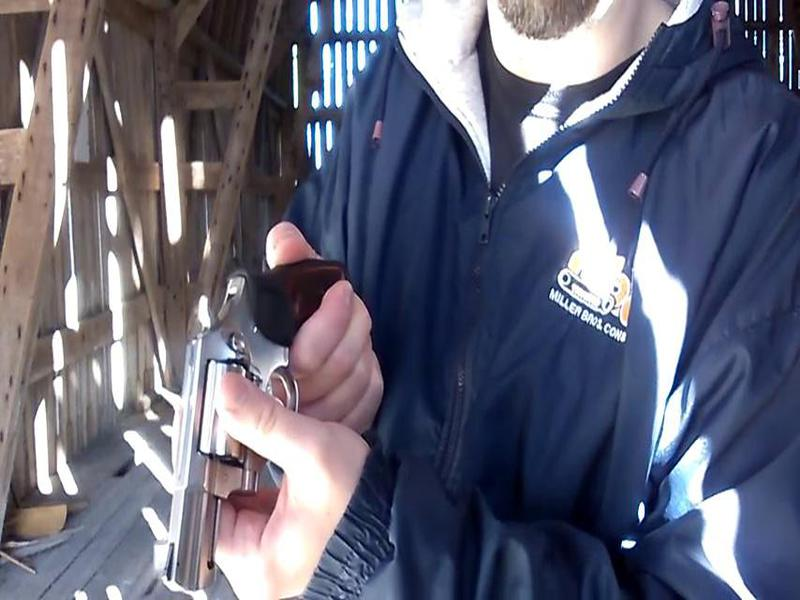Revolver: (164, 259, 346, 586)
